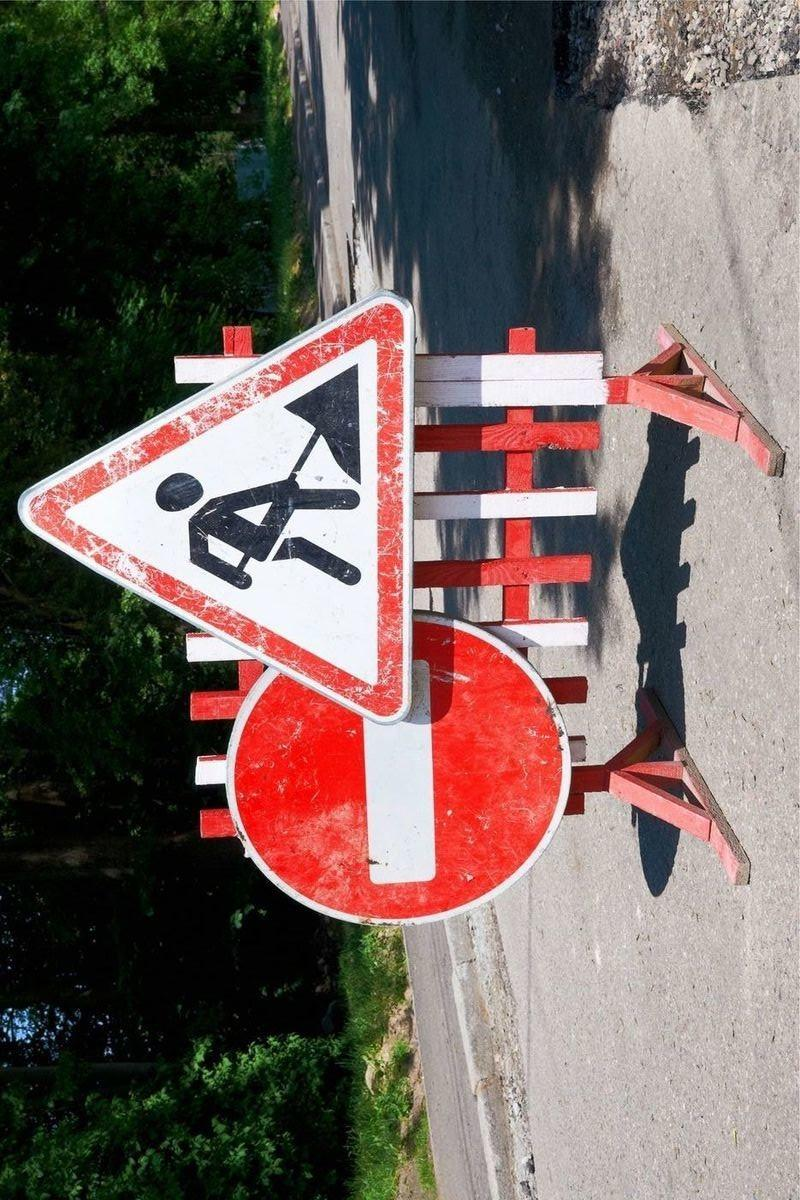obstructed_road_sign: (222, 612, 576, 931)
road_sign: (15, 288, 413, 725)
